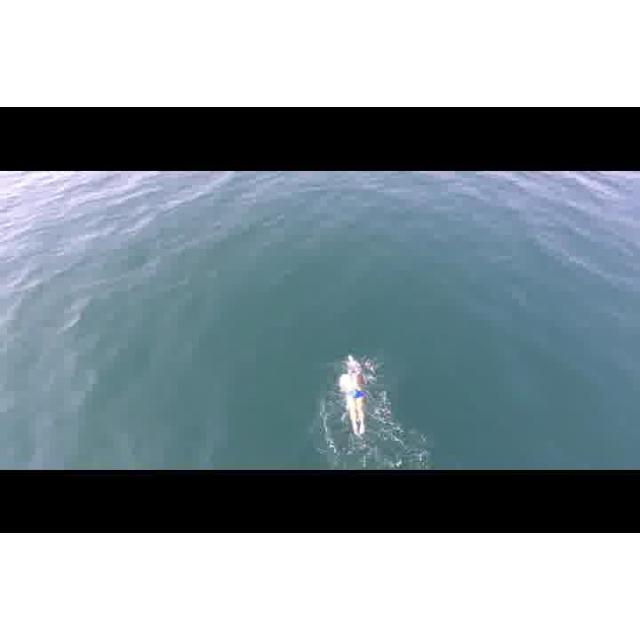human: (333, 356, 382, 445)
